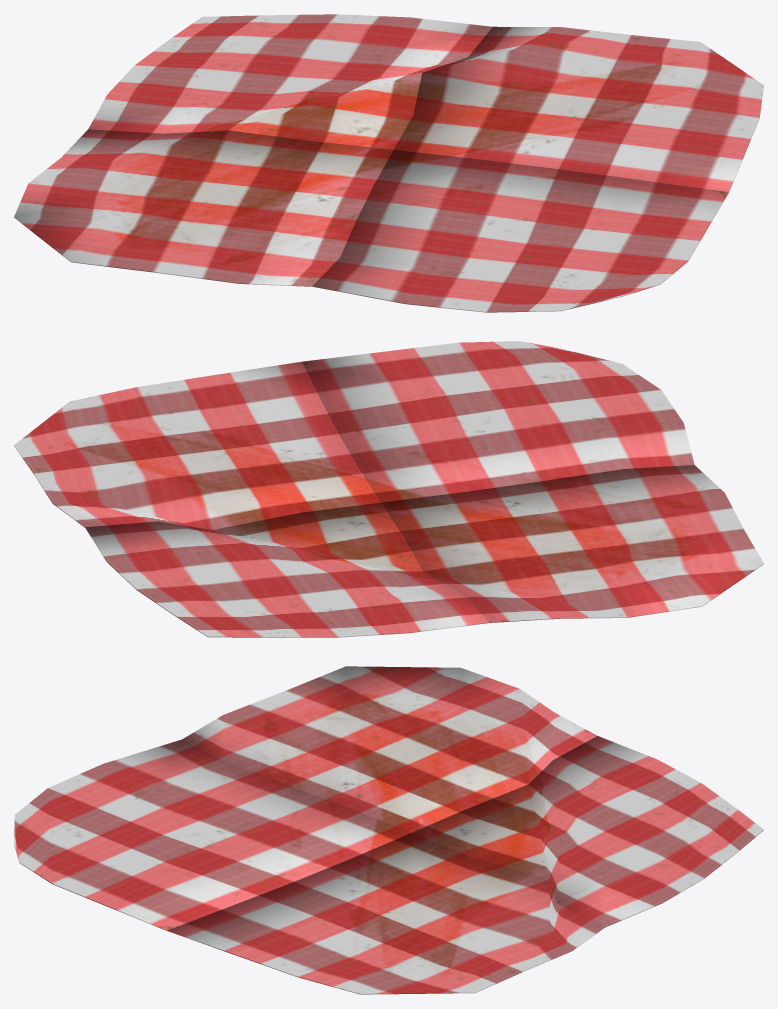
Rendered from napkin_bp_phy.fbx.
3 renders of one model, top to bottom at view 1: azimuth 30°, elevation 25°; view 2: azimuth 150°, elevation 25°; view 3: azimuth 270°, elevation 25°, orthographic. The views are drawn at different scales.
Visible parts, largest first — view 1: napkin_bp_phy, napkin_bp_phy.001, napkin_bp_phy.002, napkin_bp_phy.003; view 2: napkin_bp_phy, napkin_bp_phy.001, napkin_bp_phy.002, napkin_bp_phy.003; view 3: napkin_bp_phy, napkin_bp_phy.001, napkin_bp_phy.002, napkin_bp_phy.003.
Part boxes in pixels (x1,y1,x2,y2): napkin_bp_phy: (312,150,728,312); napkin_bp_phy.001: (14,129,393,286); napkin_bp_phy.002: (394,26,763,192); napkin_bp_phy.003: (88,14,492,149); napkin_bp_phy: (302,341,694,502); napkin_bp_phy.001: (381,465,763,622); napkin_bp_phy.002: (14,361,380,529); napkin_bp_phy.003: (85,502,489,637); napkin_bp_phy: (14,739,410,930); napkin_bp_phy.001: (182,666,597,832); napkin_bp_phy.002: (167,833,604,994); napkin_bp_phy.003: (411,736,763,927).
Size of the model in its own units: 10.69 by 0.01 by 10.34.
